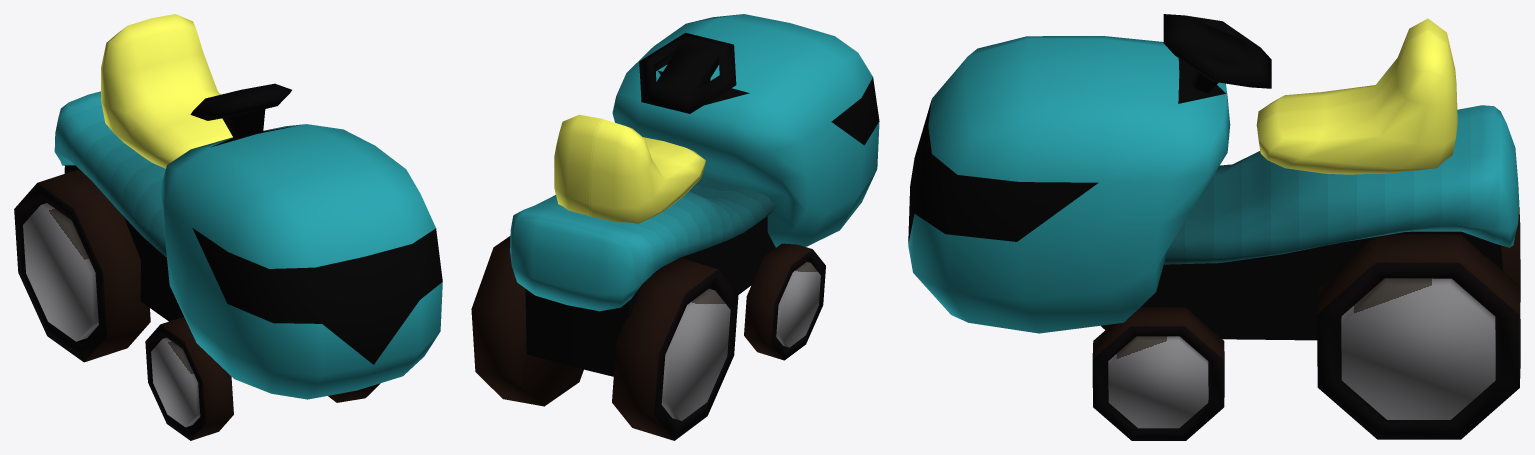
The model's file is sitting_mower.glb.
3 views of the same model, side by side, from view 1: azimuth 30°, elevation 25°; view 2: azimuth 150°, elevation 25°; view 3: azimuth 270°, elevation 25° (orthographic). The views are drawn at different scales.
Visible parts, largest first — view 1: Plane; view 2: Plane; view 3: Plane.
Part boxes in pixels (box(x1,y1,x2,y2)): Plane: box(14, 14, 442, 440); Plane: box(471, 14, 879, 440); Plane: box(908, 14, 1520, 440).
Bounding box in the file's own units: 2 × 2.93 × 4.45.
Materials: 1 (1 with a texture image).
